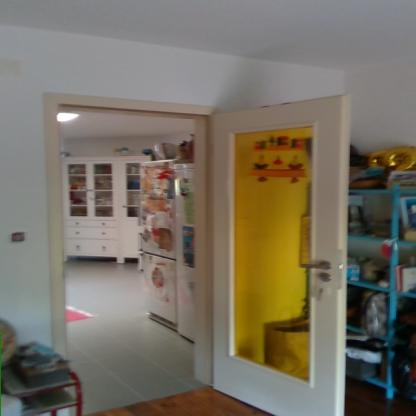open: (24, 77, 346, 407)
